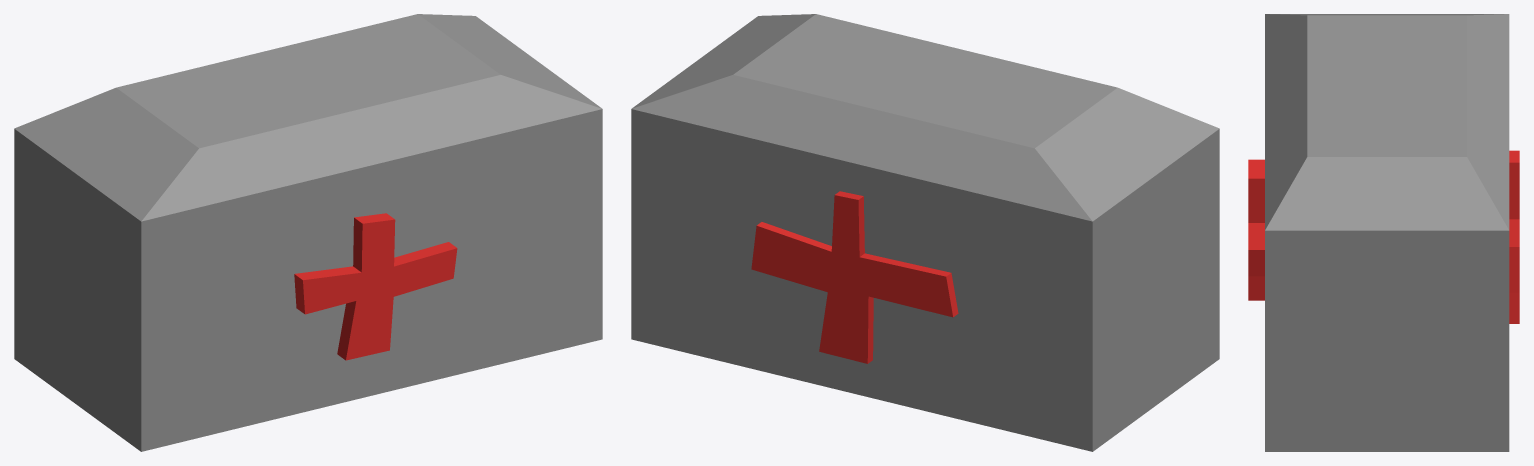
Rendered from AidKit.fbx.
The picture shows the model from 3 angles, left to right: view 1: azimuth 30°, elevation 25°; view 2: azimuth 150°, elevation 25°; view 3: azimuth 270°, elevation 25°; orthographic projection. The views are drawn at different scales.
Parts seen in each view (by area): view 1: AidKit; view 2: AidKit; view 3: AidKit.
Boxes of the visible parts, bbox=[...] form: AidKit: bbox=[14, 14, 602, 451]; AidKit: bbox=[631, 14, 1219, 451]; AidKit: bbox=[1248, 14, 1519, 451].
Bounding box in the file's own units: 1.99 × 1.1 × 1.05.
